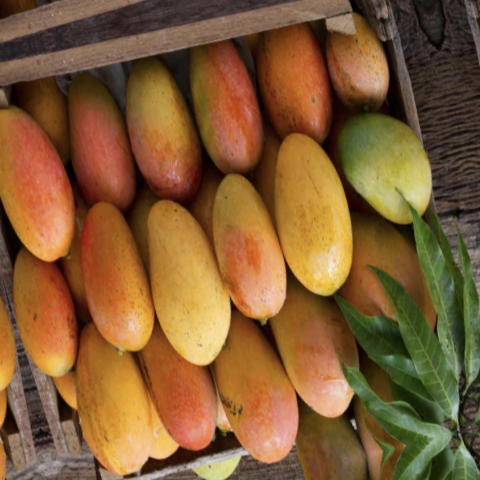mango: (118, 174, 252, 385), (39, 290, 174, 480), (250, 118, 375, 316), (166, 7, 279, 204), (50, 193, 170, 369), (197, 297, 319, 469), (0, 94, 97, 287), (198, 171, 308, 341), (332, 86, 452, 236), (54, 73, 158, 235), (0, 224, 95, 387)
